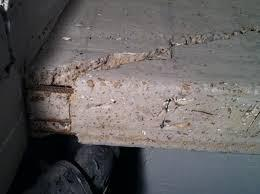exposed_rebar: (33, 85, 74, 94), (32, 118, 69, 123)
spalling: (24, 71, 77, 137)
